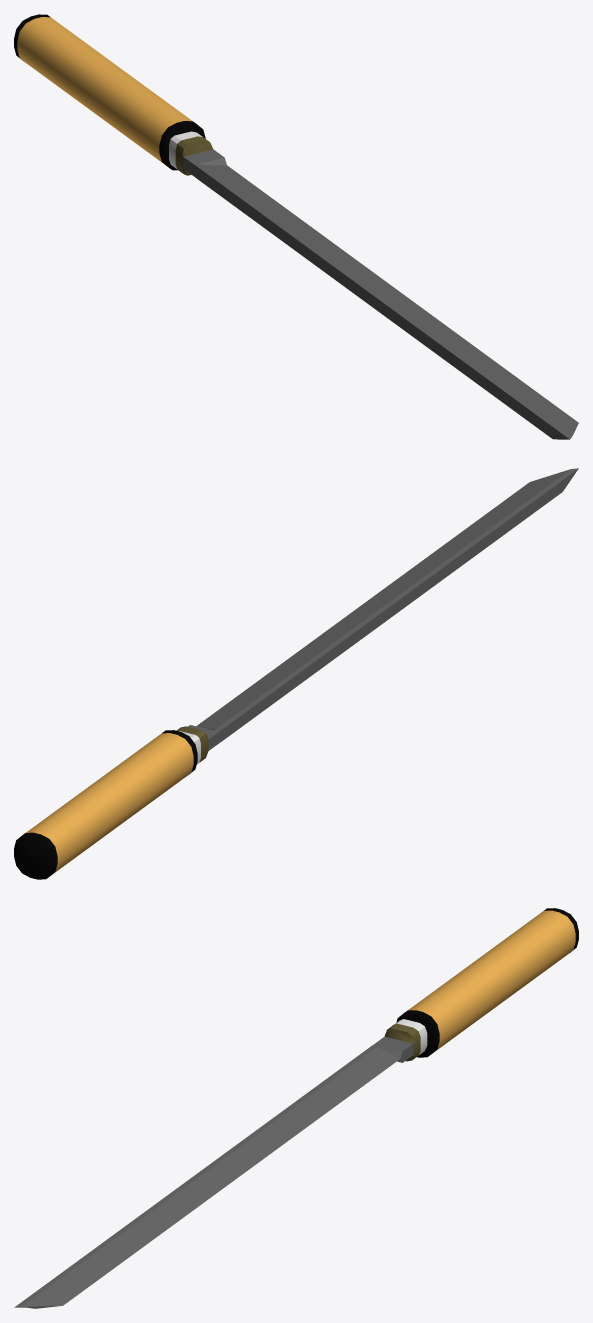
Rendered from sword1.fbx.
3 renders of one model, top to bottom at view 1: azimuth 30°, elevation 25°; view 2: azimuth 150°, elevation 25°; view 3: azimuth 330°, elevation 25°, orthographic. The views are drawn at different scales.
Parts seen in each view (by area): view 1: Cube; view 2: Cube; view 3: Cube.
Boxes of the visible parts, x1,y1,x2,y2 form: Cube: [14, 14, 578, 439]; Cube: [14, 468, 578, 879]; Cube: [14, 908, 578, 1308].
Bounding box in the file's own units: 43.01 × 43.66 × 984.
